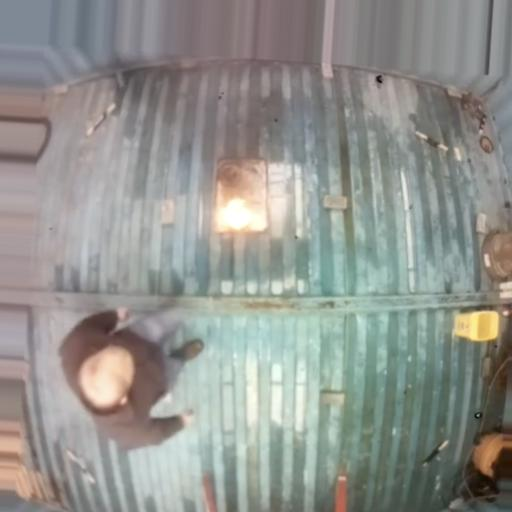Fire: (217, 197, 257, 230)
